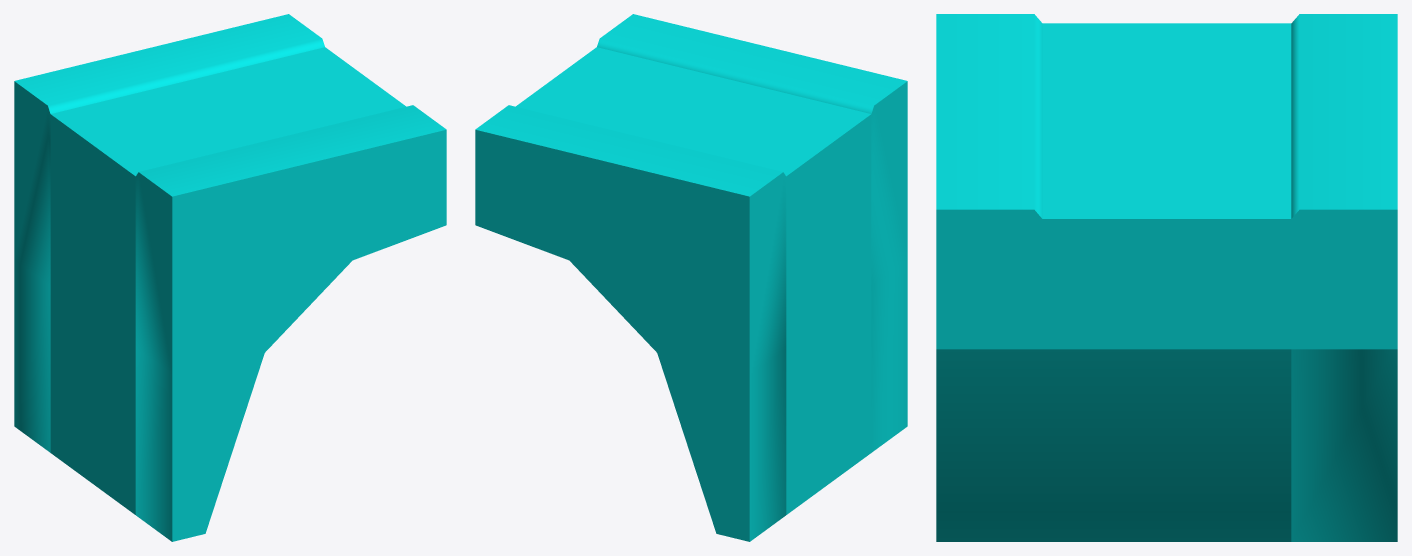
Rendered from SM_Bld_Bridge_L_01_Collision.fbx.
3 views of the same model, side by side, from view 1: azimuth 30°, elevation 25°; view 2: azimuth 150°, elevation 25°; view 3: azimuth 270°, elevation 25° (orthographic). The views are drawn at different scales.
Visible parts, largest first — view 1: SM_Bld_Bridge_L_01_Collision; view 2: SM_Bld_Bridge_L_01_Collision; view 3: SM_Bld_Bridge_L_01_Collision.
Part boxes in pixels (x1,y1,x2,y2): SM_Bld_Bridge_L_01_Collision: (14, 14, 446, 541); SM_Bld_Bridge_L_01_Collision: (475, 14, 907, 541); SM_Bld_Bridge_L_01_Collision: (936, 14, 1397, 541).
Bounding box in the file's own units: 500 × 601 × 498.
